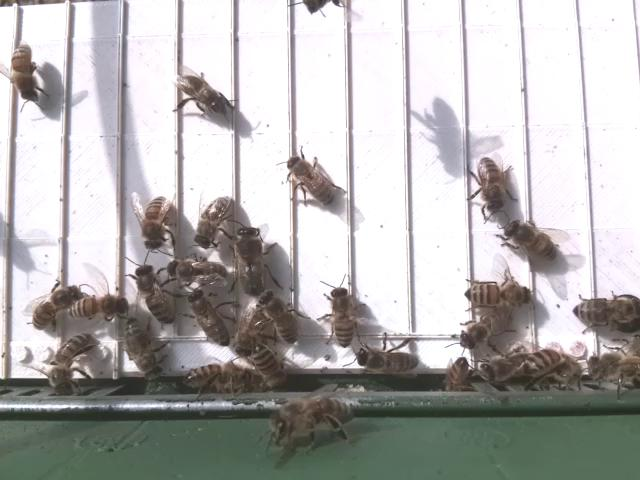Drone: (233, 224, 268, 299)
Worker: (282, 151, 339, 210), (45, 329, 95, 391), (186, 287, 233, 349), (170, 70, 230, 117), (132, 260, 174, 327), (501, 218, 562, 264), (460, 275, 536, 310), (29, 282, 82, 331), (191, 193, 234, 251), (257, 291, 304, 344), (354, 344, 421, 379), (325, 282, 359, 350), (570, 295, 639, 328), (138, 194, 176, 253), (8, 40, 42, 105), (474, 153, 508, 217), (169, 255, 233, 287), (250, 341, 289, 393), (67, 295, 131, 321)
